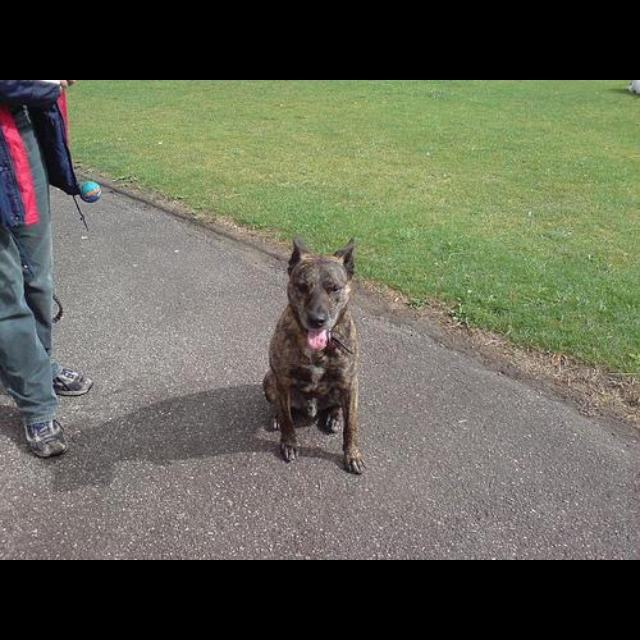staffford: (263, 237, 367, 476)
